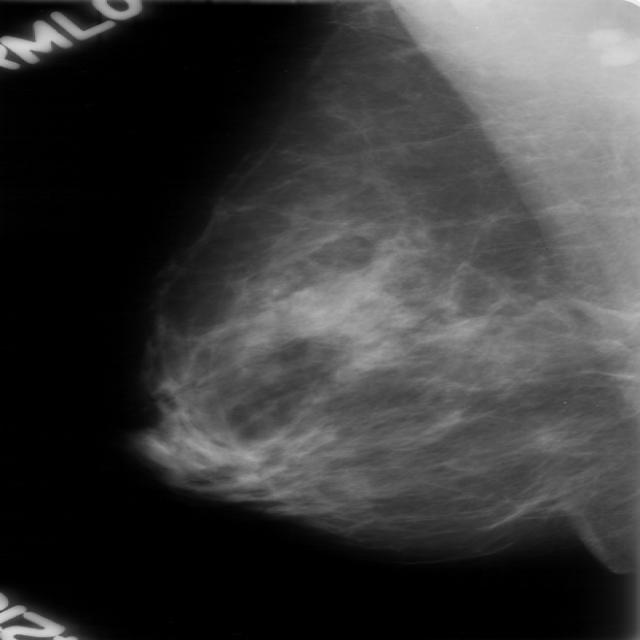tumour: (284, 279, 361, 334)
